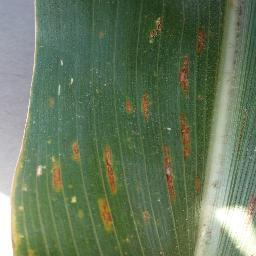Gray_Leaf_Spot: (7, 116, 29, 254), (225, 0, 251, 84), (93, 194, 120, 235), (37, 156, 65, 194), (192, 215, 215, 256), (28, 0, 40, 75), (101, 143, 120, 189), (175, 111, 192, 159), (161, 142, 175, 199), (238, 188, 253, 238), (175, 54, 192, 96), (146, 12, 166, 44), (67, 138, 85, 169), (194, 23, 209, 59), (23, 76, 35, 117), (189, 169, 206, 196), (141, 85, 150, 124), (123, 92, 135, 116), (209, 176, 223, 195), (141, 208, 157, 224), (43, 92, 57, 108), (96, 27, 112, 41), (75, 206, 87, 219), (67, 192, 80, 203)
